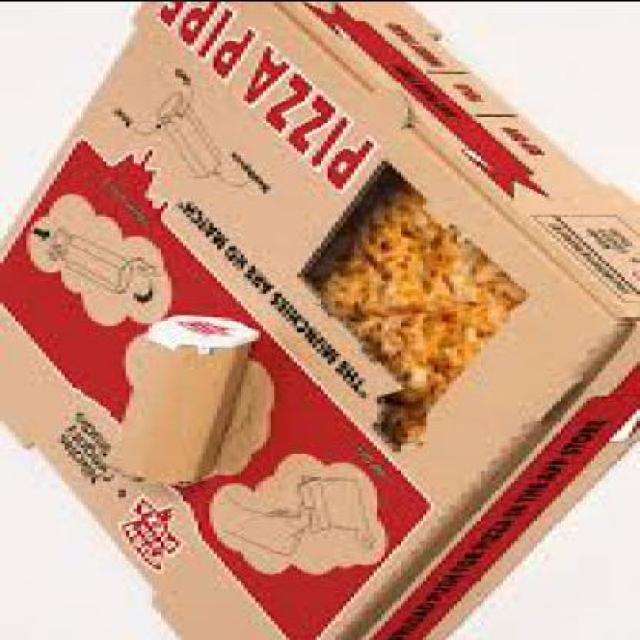BIODEGRADABLE: (313, 178, 525, 445)
CARDBOARD: (0, 2, 637, 640), (107, 318, 255, 484)
